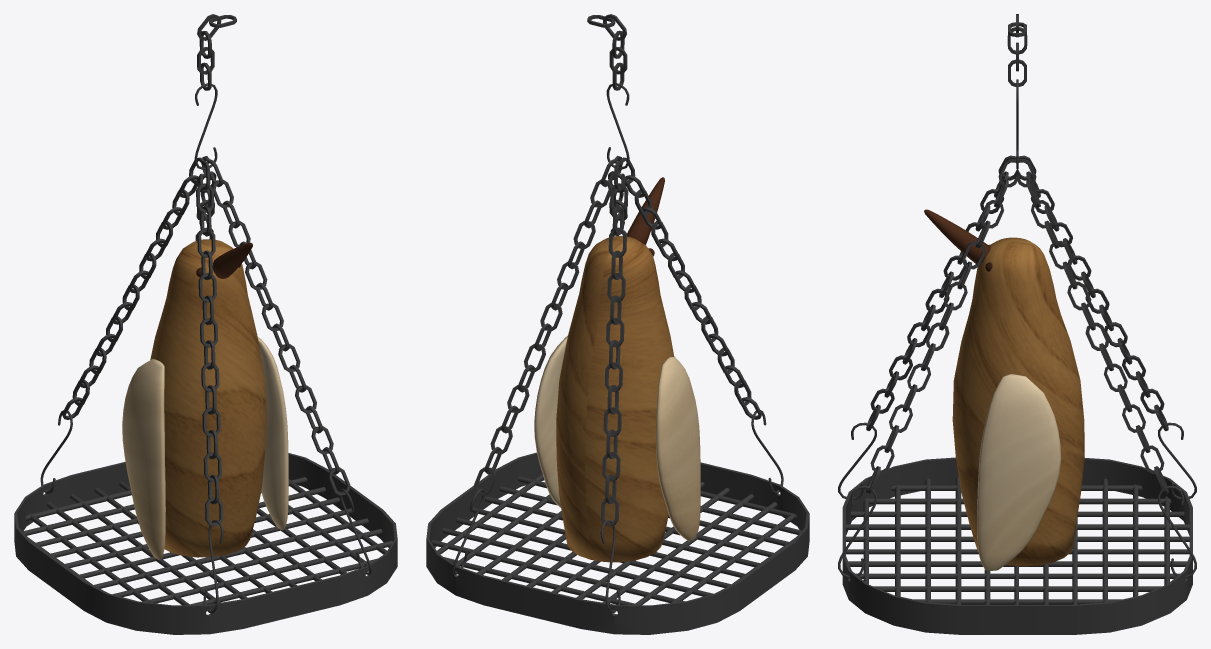
The model's file is rihutoP.fbx.
3 renders of one model, left to right at view 1: azimuth 30°, elevation 25°; view 2: azimuth 150°, elevation 25°; view 3: azimuth 270°, elevation 25°, orthographic.
Parts seen in each view (by area): view 1: rihutoP_S; view 2: rihutoP_S; view 3: rihutoP_S.
Boxes of the visible parts, bbox=[...] form: rihutoP_S: bbox=[14, 14, 397, 634]; rihutoP_S: bbox=[426, 14, 809, 634]; rihutoP_S: bbox=[838, 14, 1196, 634].
Size of the model in its own units: 58.65 by 101 by 59.76.
3 materials, 3 textured.
